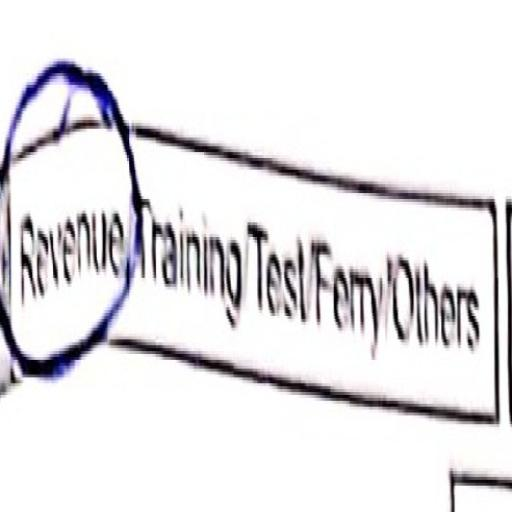check: (1, 68, 132, 423)
